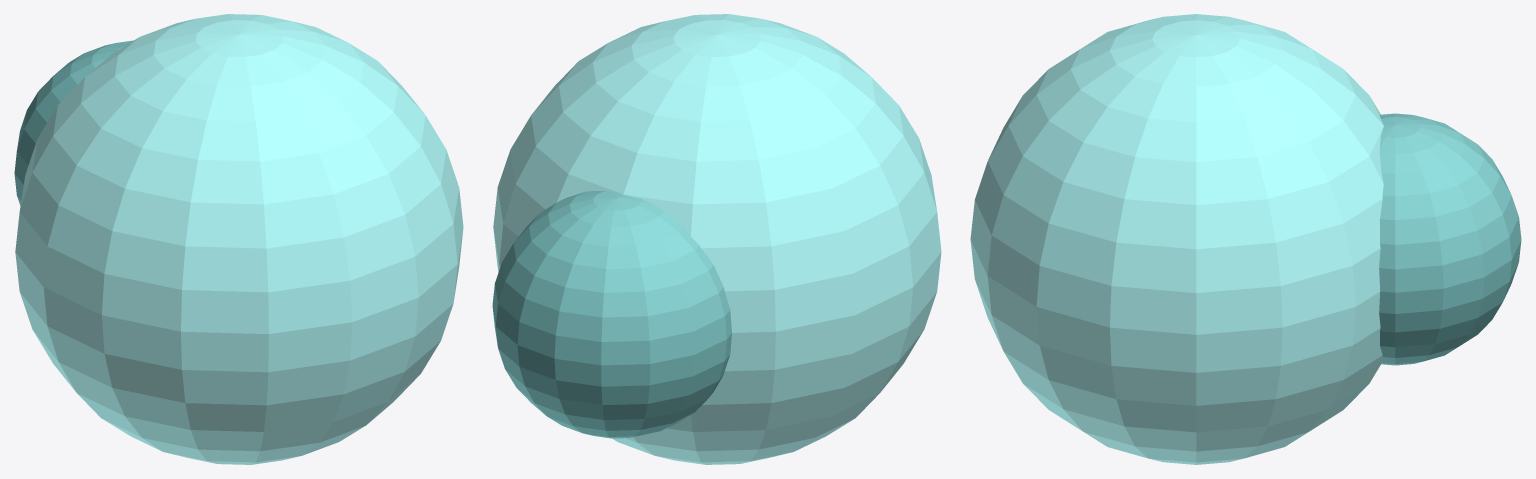
Rendered from attack_helicopter.glb.
The picture shows the model from 3 angles, left to right: view 1: azimuth 30°, elevation 25°; view 2: azimuth 150°, elevation 25°; view 3: azimuth 270°, elevation 25°; orthographic projection.
Visible parts, largest first — view 1: fuselage, tail_boom; view 2: fuselage, tail_boom; view 3: fuselage, tail_boom.
Part boxes in pixels (x1,y1,x2,y2): fuselage: (15,14,463,464); tail_boom: (14,40,133,205); fuselage: (493,14,941,464); tail_boom: (492,190,731,438); fuselage: (970,14,1383,464); tail_boom: (1379,113,1521,365).
Size of the model in its own units: 6.8 by 6.8 by 8.3.
